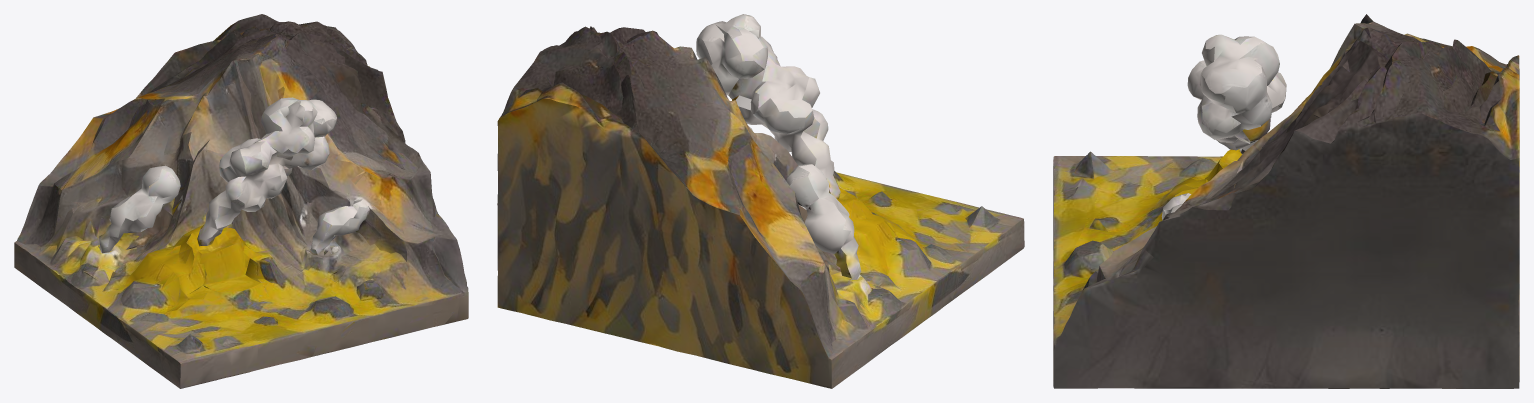
File: atosa-nupuri.glb
The picture shows the model from 3 angles, left to right: view 1: azimuth 30°, elevation 25°; view 2: azimuth 150°, elevation 25°; view 3: azimuth 270°, elevation 25°; orthographic projection. The views are drawn at different scales.
Parts seen in each view (by area): view 1: logan-textured.obj; view 2: logan-textured.obj; view 3: logan-textured.obj.
Boxes of the visible parts, bbox=[...] form: logan-textured.obj: bbox=[14, 14, 468, 388]; logan-textured.obj: bbox=[497, 14, 1024, 388]; logan-textured.obj: bbox=[1053, 14, 1519, 388].
Bounding box in the file's own units: 1 × 0.7289 × 0.9991.
1 material, 1 textured.
